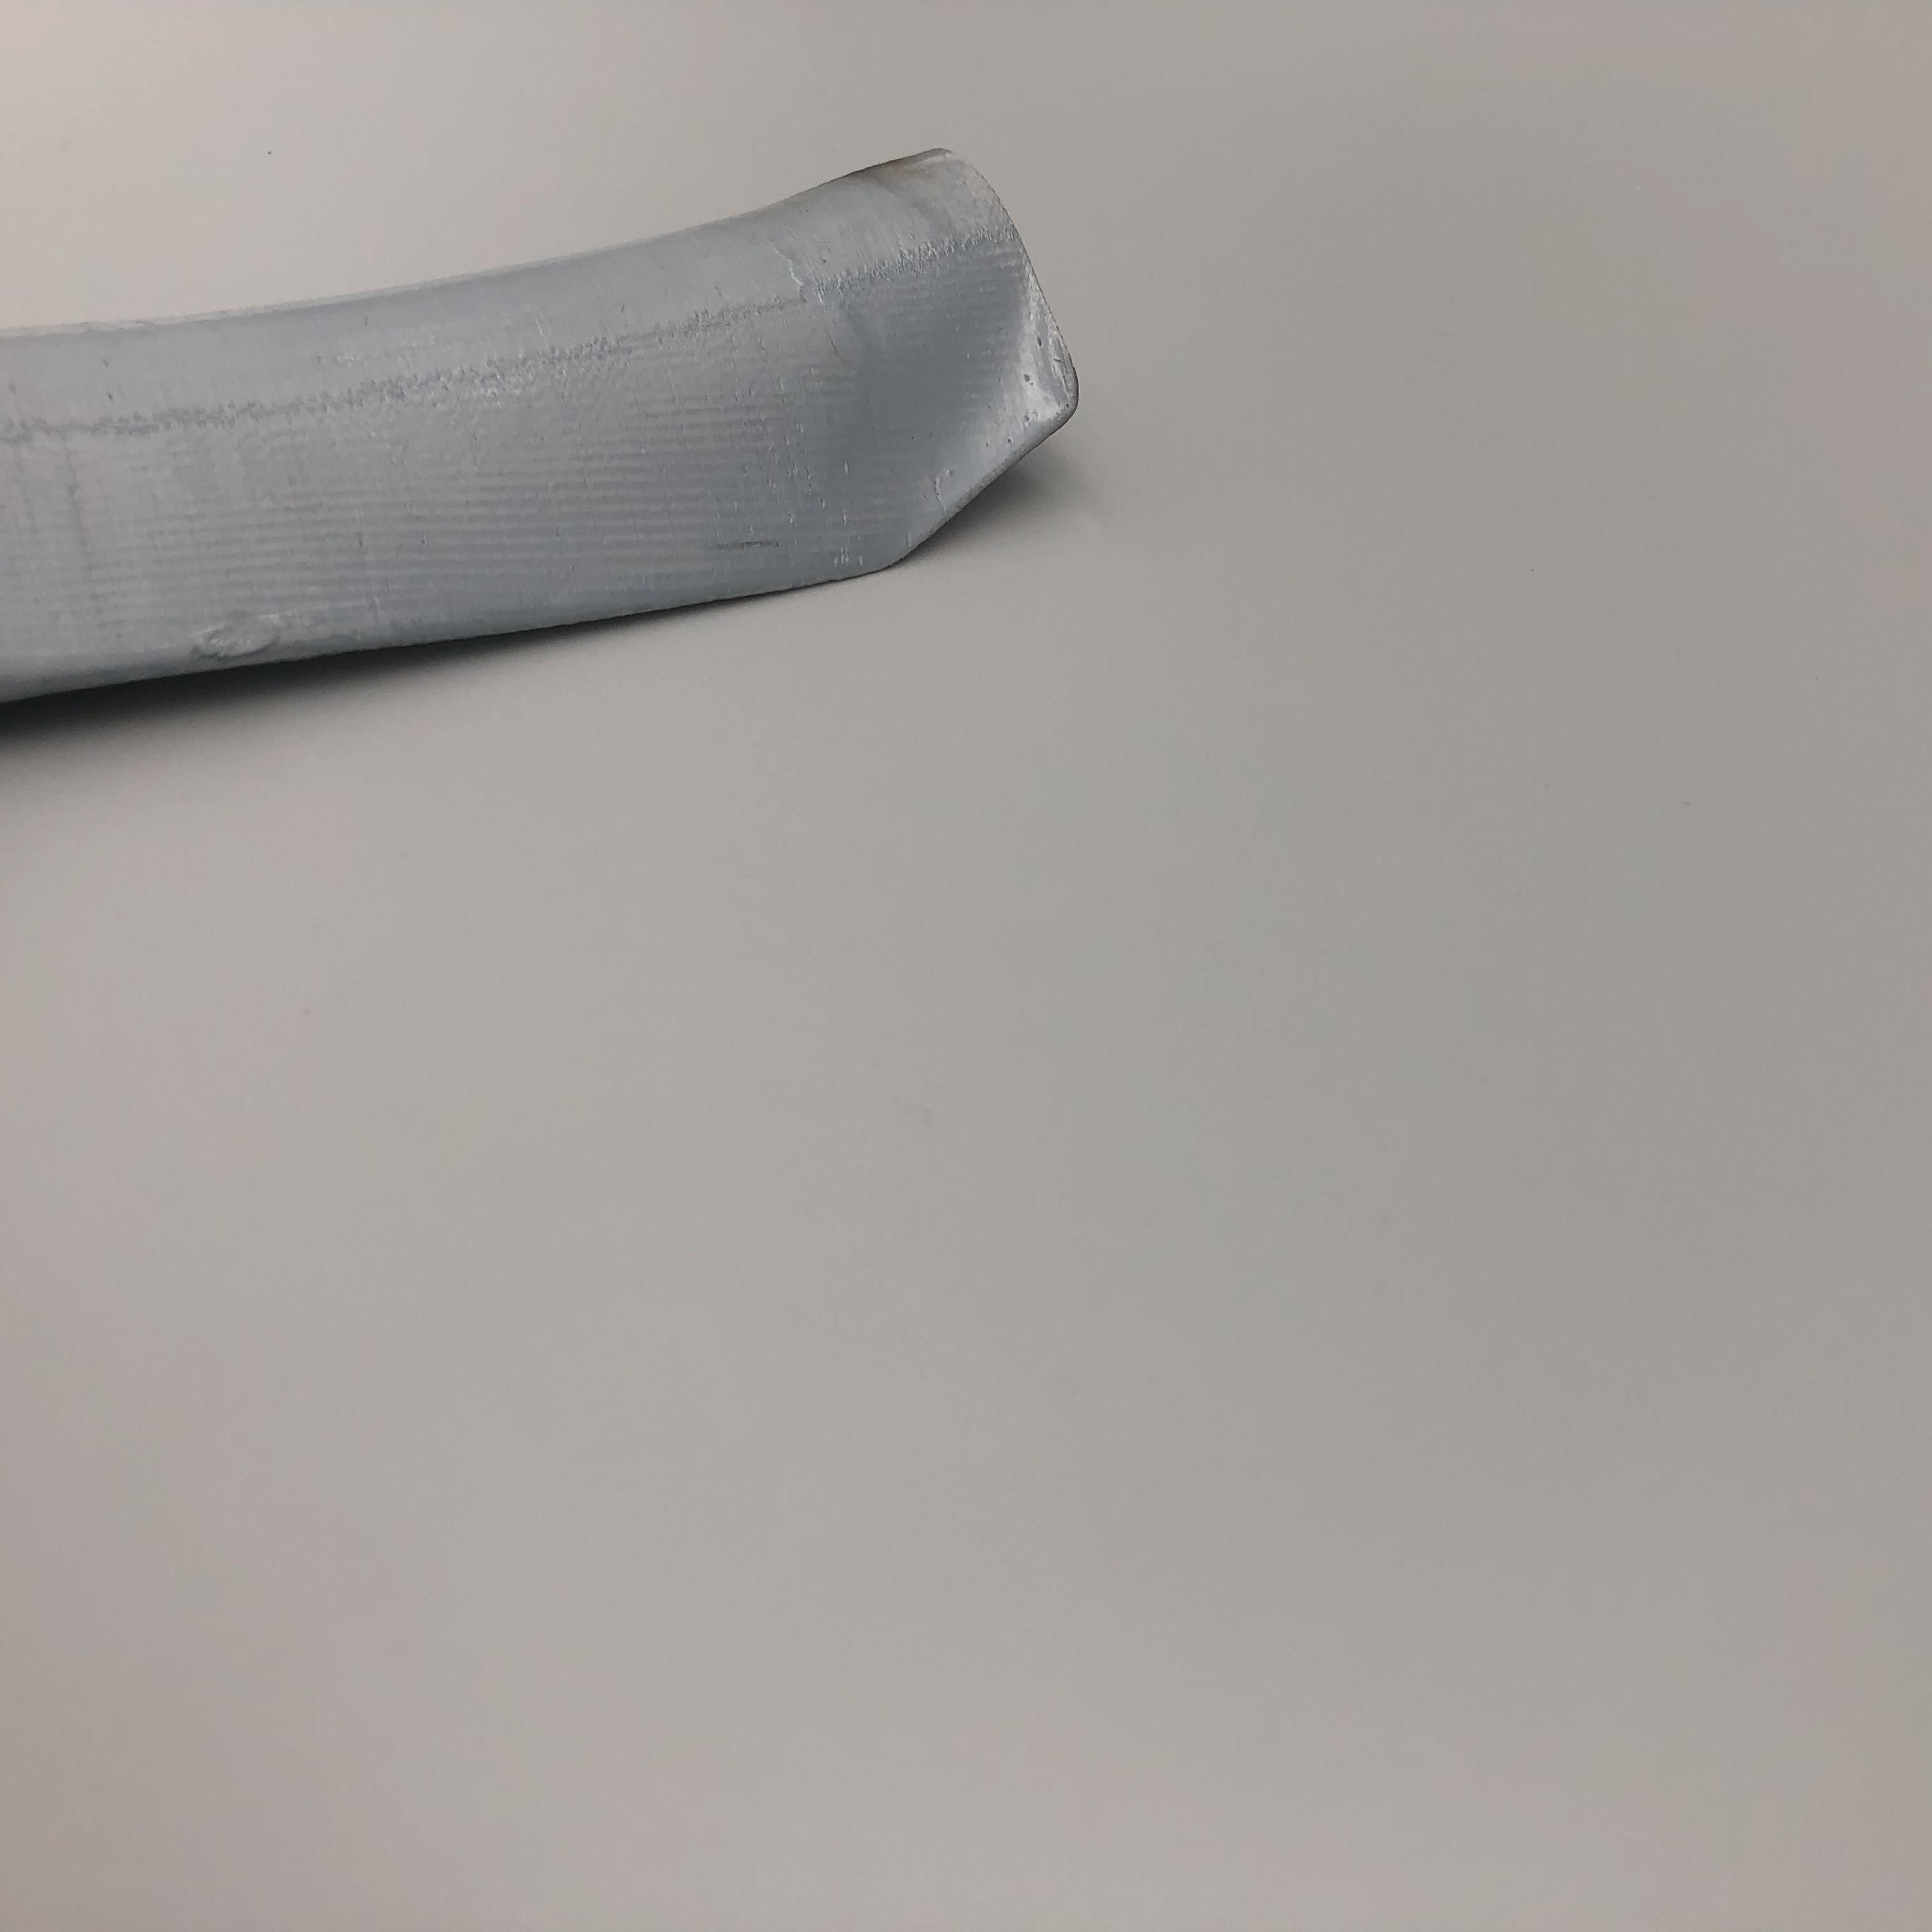ablation: (840, 149, 973, 211)
